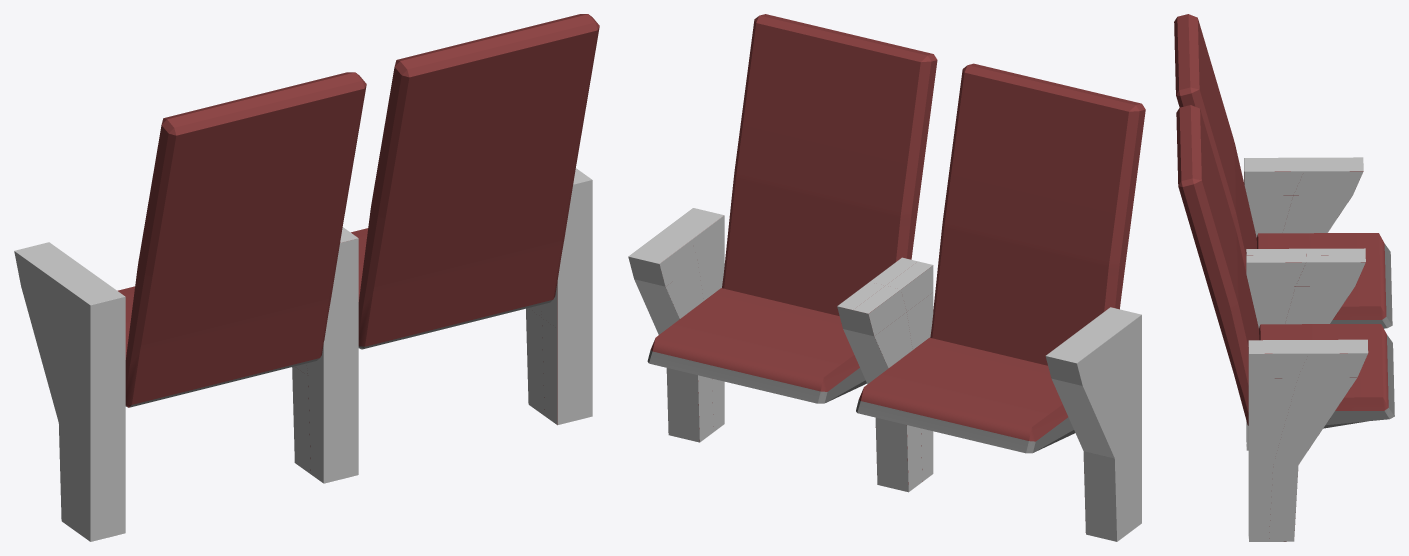
File: seats.fbx
3 views of the same model, side by side, from view 1: azimuth 30°, elevation 25°; view 2: azimuth 150°, elevation 25°; view 3: azimuth 270°, elevation 25° (orthographic). The views are drawn at different scales.
Visible parts, largest first — view 1: pasted__pasted__pCube13; view 2: pasted__pasted__pCube13; view 3: pasted__pasted__pCube13.
Boxes of the visible parts, <box> form: pasted__pasted__pCube13: <box>14,14,599,541</box>; pasted__pasted__pCube13: <box>628,14,1145,541</box>; pasted__pasted__pCube13: <box>1174,14,1394,541</box>.
Size of the model in its own units: 193 by 160 by 91.83.
